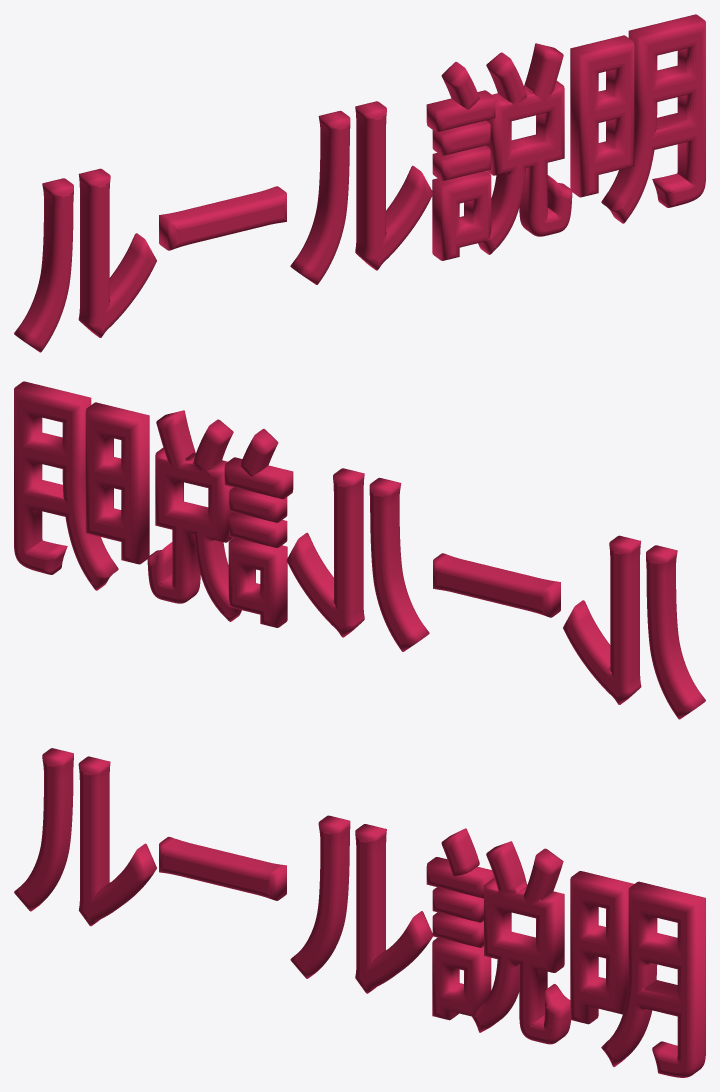
Rendered from ruleText.obj.
3 renders of one model, top to bottom at view 1: azimuth 30°, elevation 25°; view 2: azimuth 150°, elevation 25°; view 3: azimuth 330°, elevation 25°, orthographic.
Parts seen in each view (by area): view 1: テキスト; view 2: テキスト; view 3: テキスト.
Part boxes in pixels (x1,y1,x2,y2): テキスト: (14,14,705,352); テキスト: (14,381,705,719); テキスト: (14,748,705,1077).
Bounding box in the file's own units: 3.1 × 0.8427 × 0.12.
